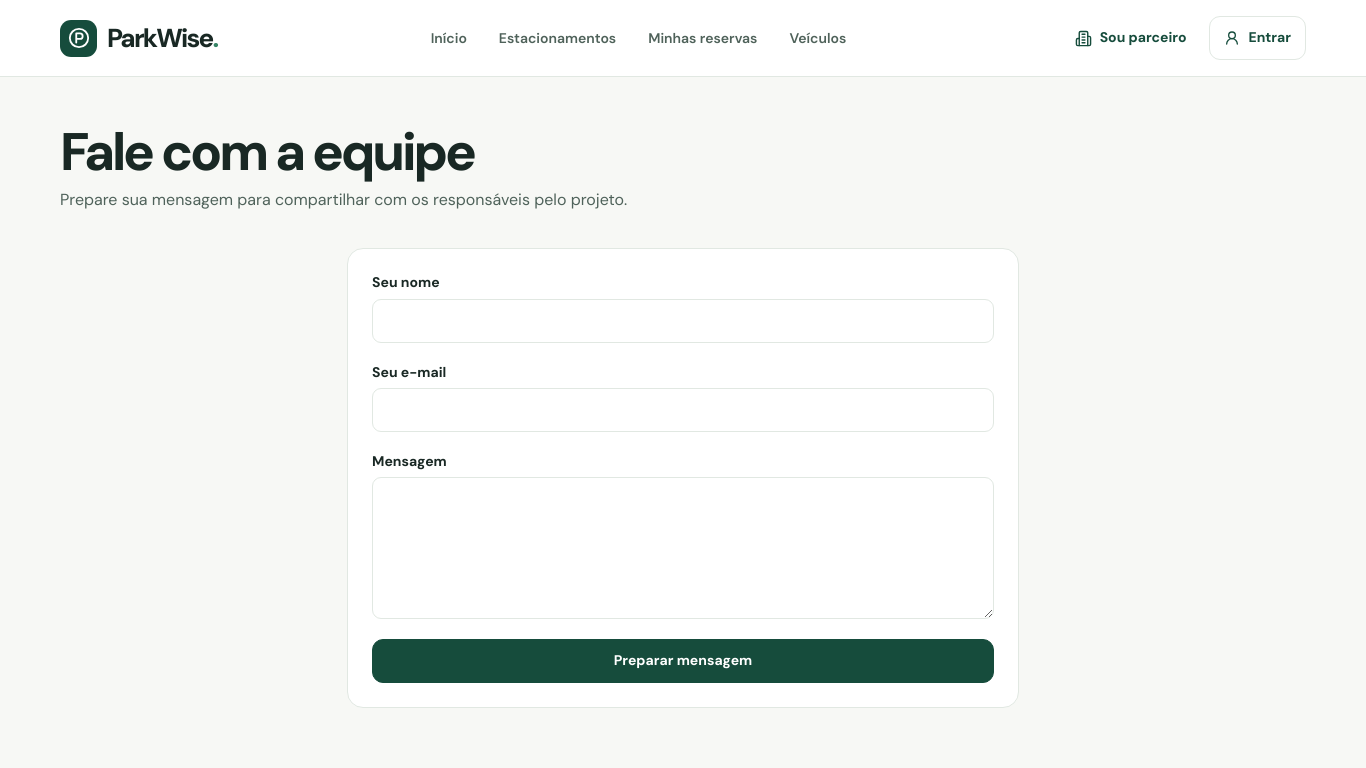
prepara contato sem afirmar que um e-mail foi enviado
The width and height of the screenshot is (1366, 768).
Type "Teste ParkWise" into the field labelled "Seu nome". click: (683, 321)
box: [372,299,994,343]
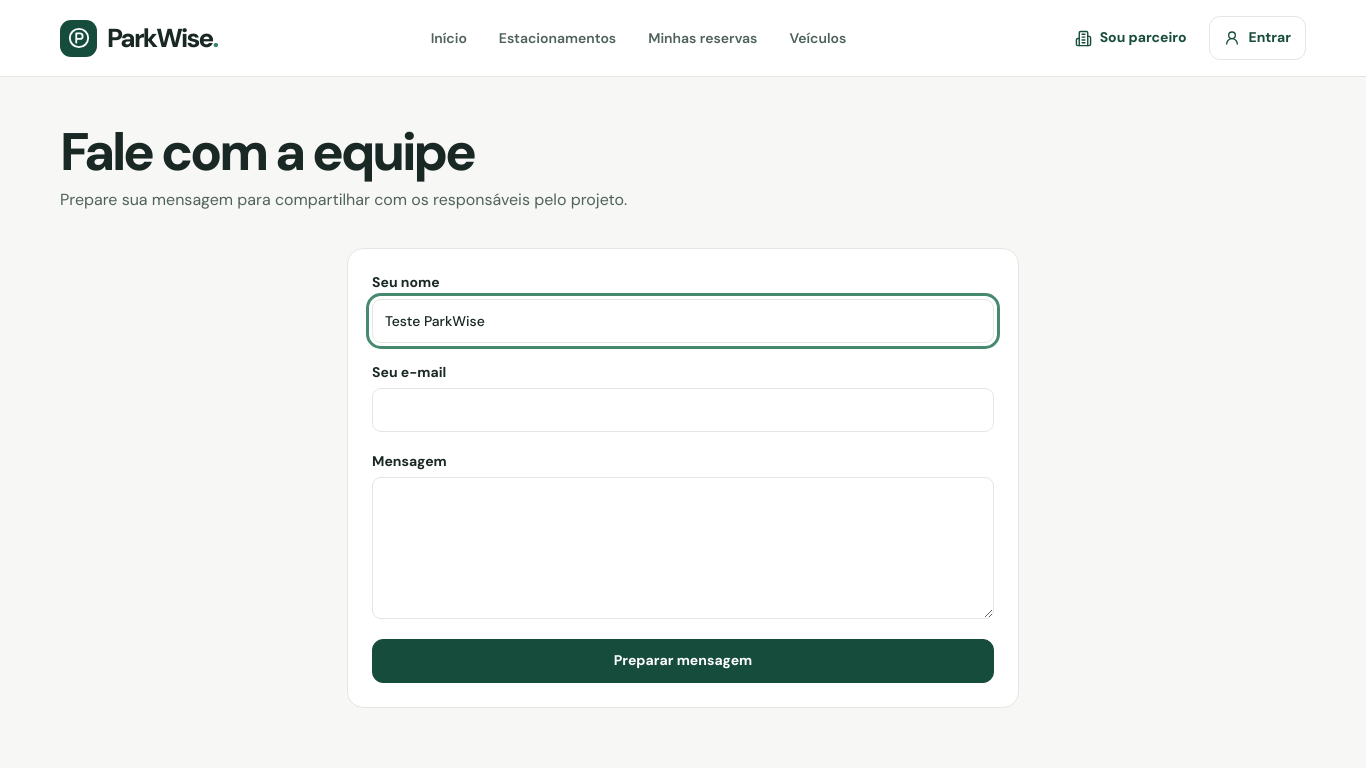
Type "teste@example.test" into the field labelled "Seu e-mail". click: (683, 410)
box: [372,388,994,432]
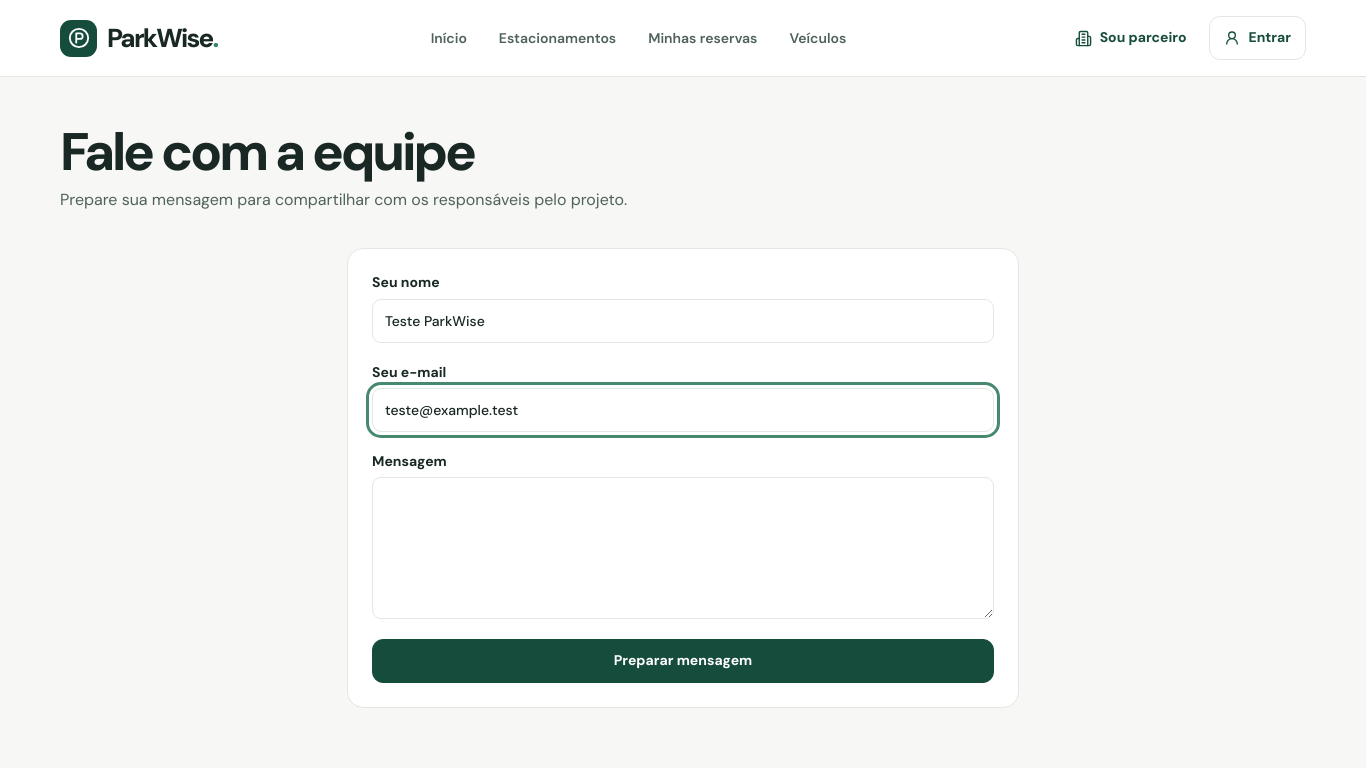
Type "Gostaria de saber mais sobre o projeto." into the text box labelled "Mensagem". click: (683, 548)
box: [372,477,994,619]
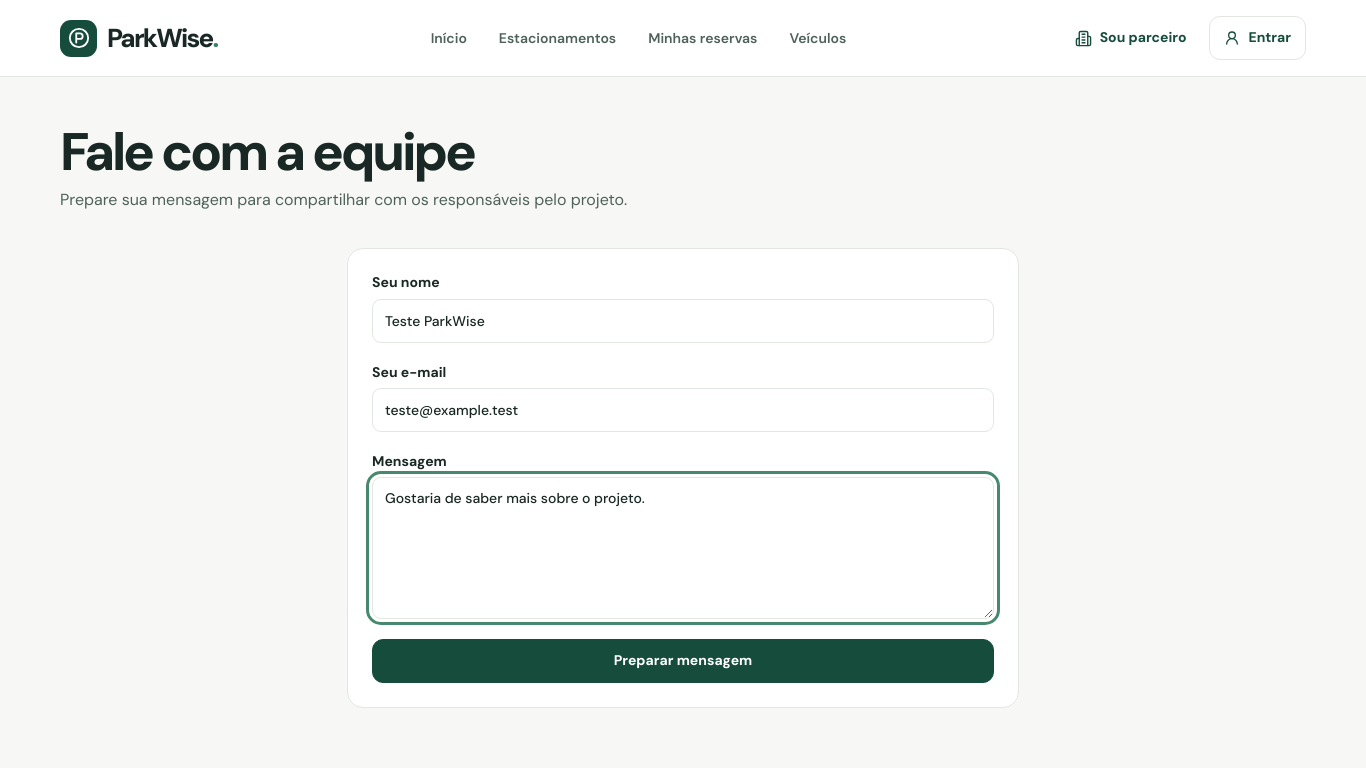
Click the button "Preparar mensagem". click: (683, 661)
box: [372,639,994,683]
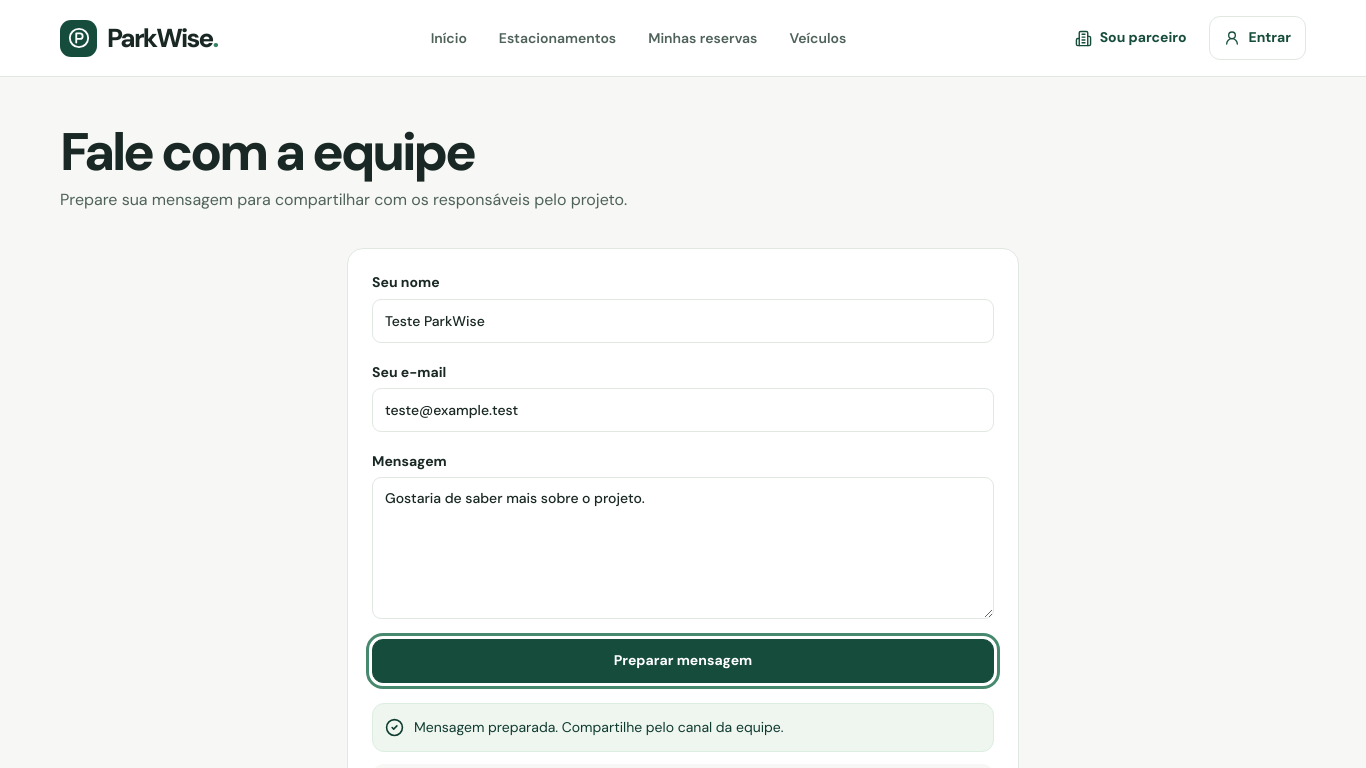
Expected: the text "Mensagem preparada. Compartilhe pelo canal da equipe." is shown, [414,716,784,739]
